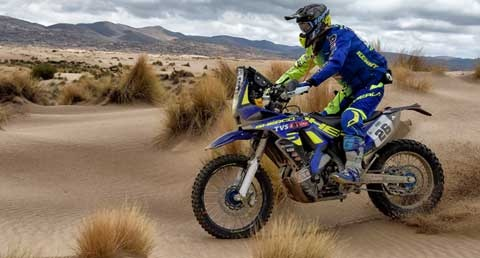helmet: (290, 3, 333, 50)
